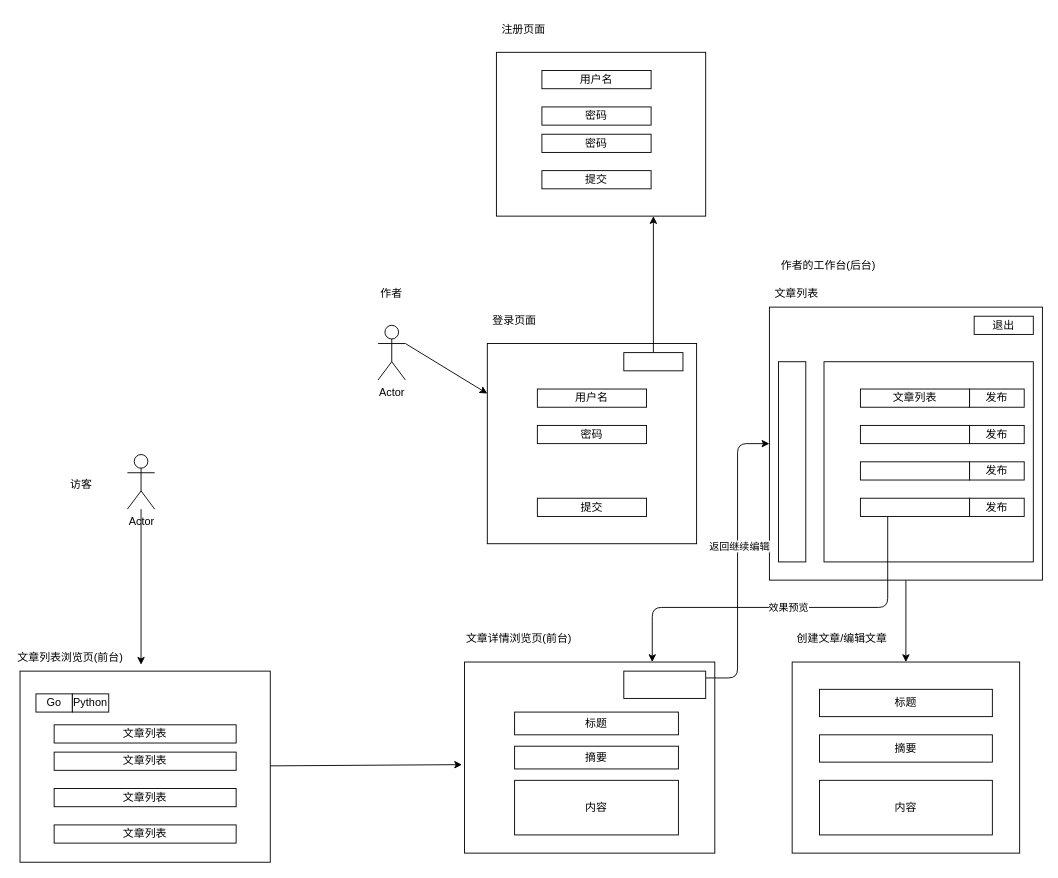
Image size: 1058x878. Some labels were removed from this diagram. Here are the shapes that lost their labels. From the top down, the centre of each, then its label:
At point (653, 361): "注册".
At point (664, 684): "返回后台".
